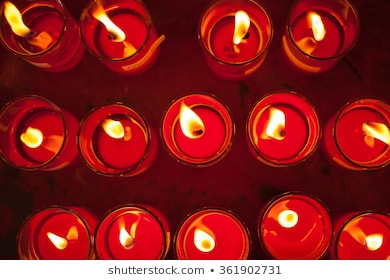Fire: (92, 4, 128, 44), (3, 3, 31, 38), (180, 103, 205, 142), (266, 104, 285, 145), (190, 228, 219, 253), (115, 223, 141, 250), (363, 121, 390, 146), (101, 117, 127, 142), (309, 14, 331, 42), (234, 11, 250, 46), (19, 127, 42, 149), (365, 229, 385, 253), (47, 232, 69, 251), (277, 211, 300, 228)
